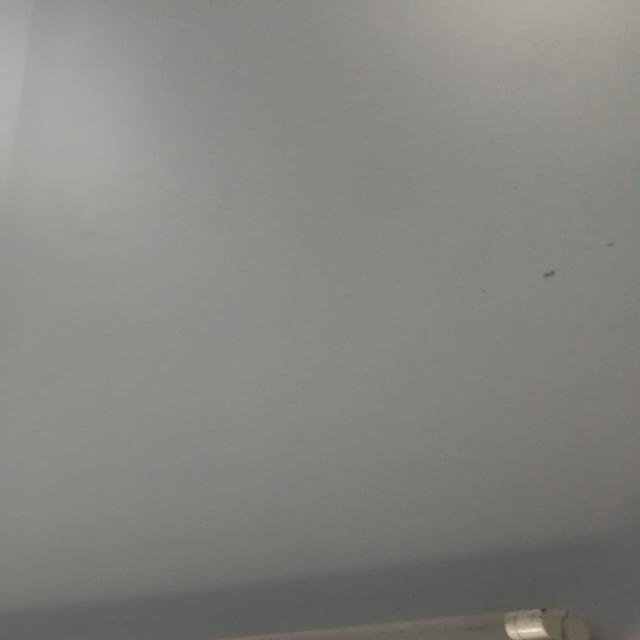fluorescent tube: (0, 569, 621, 640)
